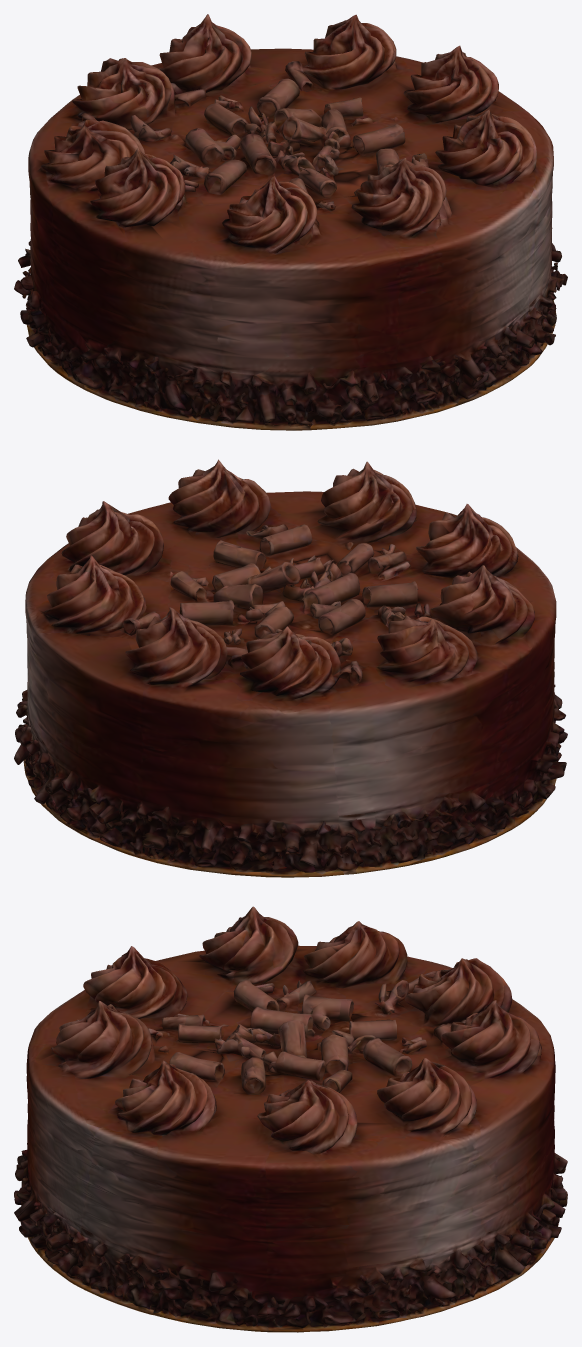
The model's file is cake2.glb.
3 renders of one model, top to bottom at view 1: azimuth 30°, elevation 25°; view 2: azimuth 150°, elevation 25°; view 3: azimuth 270°, elevation 25°, orthographic.
Parts seen in each view (by area): view 1: tripo_node_0793a5da-df02-4aee-b8c2-b78898513c1b; view 2: tripo_node_0793a5da-df02-4aee-b8c2-b78898513c1b; view 3: tripo_node_0793a5da-df02-4aee-b8c2-b78898513c1b.
Part boxes in pixels (x1,y1,x2,y2): tripo_node_0793a5da-df02-4aee-b8c2-b78898513c1b: (14, 14, 567, 430); tripo_node_0793a5da-df02-4aee-b8c2-b78898513c1b: (14, 459, 567, 877); tripo_node_0793a5da-df02-4aee-b8c2-b78898513c1b: (14, 906, 567, 1332).
Bounding box in the file's own units: 0.9681 × 0.4425 × 0.9709.
Materials: 1 (1 with a texture image).
